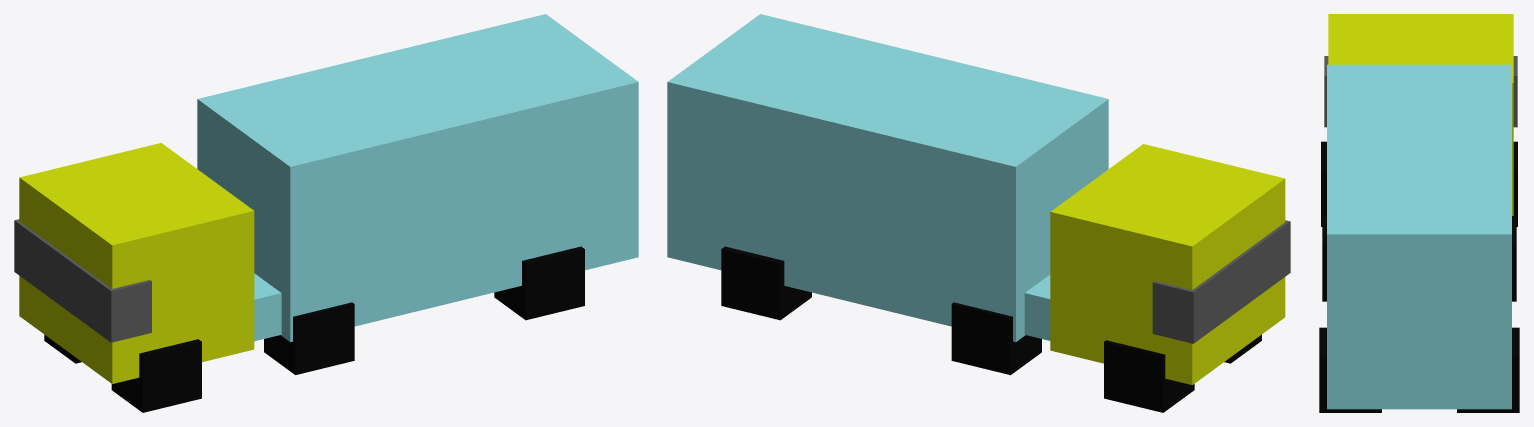
File: enemy2.gltf
3 renders of one model, left to right at view 1: azimuth 30°, elevation 25°; view 2: azimuth 150°, elevation 25°; view 3: azimuth 270°, elevation 25°, orthographic.
Visible parts, largest first — view 1: body.002, head, Cube.003, Cube.002, Cube.001; view 2: body.002, head, Cube.003, Cube.002, Cube.001; view 3: body.002, head, Cube.001, Cube.003, Cube.002.
Boxes of the visible parts, <box> form: body.002: <box>197,14,638,342</box>; head: <box>14,143,254,383</box>; Cube.003: <box>44,334,201,412</box>; Cube.002: <box>264,302,354,374</box>; Cube.001: <box>494,246,584,320</box>; body.002: <box>667,14,1108,342</box>; head: <box>1050,144,1290,385</box>; Cube.003: <box>1104,334,1261,412</box>; Cube.002: <box>951,302,1041,375</box>; Cube.001: <box>721,246,811,320</box>; body.002: <box>1327,64,1511,409</box>; head: <box>1324,14,1517,215</box>; Cube.001: <box>1319,327,1519,412</box>; Cube.003: <box>1321,141,1517,226</box>; Cube.002: <box>1322,216,1516,301</box>.
Bounding box in the file's own units: 4.29 × 1.61 × 1.41.
